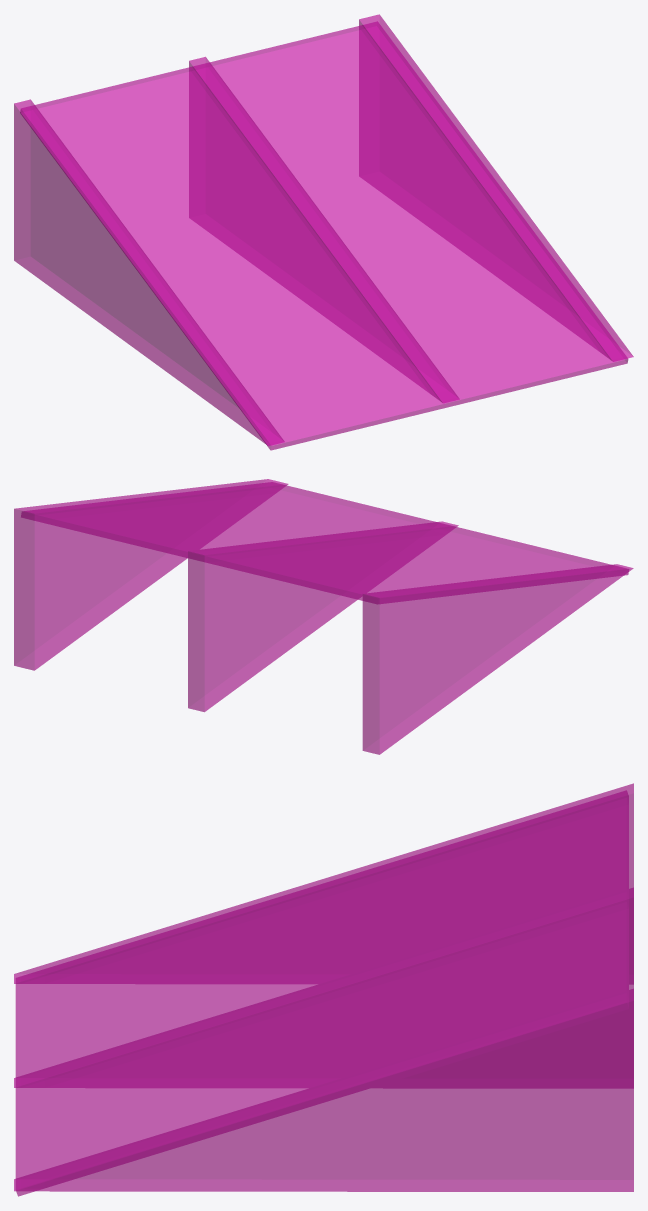
Rendered from SM_Prop_Ramp_01_Collision.fbx.
3 renders of one model, top to bottom at view 1: azimuth 30°, elevation 25°; view 2: azimuth 150°, elevation 25°; view 3: azimuth 270°, elevation 25°, orthographic. The views are drawn at different scales.
Visible parts, largest first — view 1: SM_Prop_Ramp_01_Collision; view 2: SM_Prop_Ramp_01_Collision; view 3: SM_Prop_Ramp_01_Collision.
Part boxes in pixels (bbox=[...]): SM_Prop_Ramp_01_Collision: bbox=[14, 14, 633, 450]; SM_Prop_Ramp_01_Collision: bbox=[14, 479, 633, 754]; SM_Prop_Ramp_01_Collision: bbox=[14, 783, 633, 1196].
Size of the model in its own units: 587 by 250 by 708.
